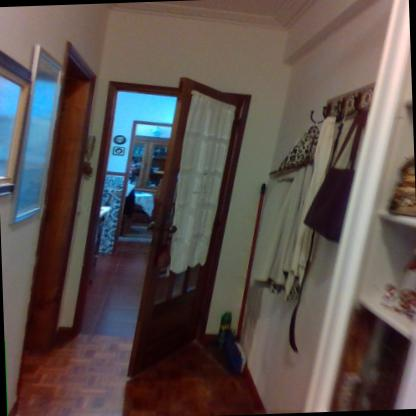semi: (58, 63, 266, 400)
